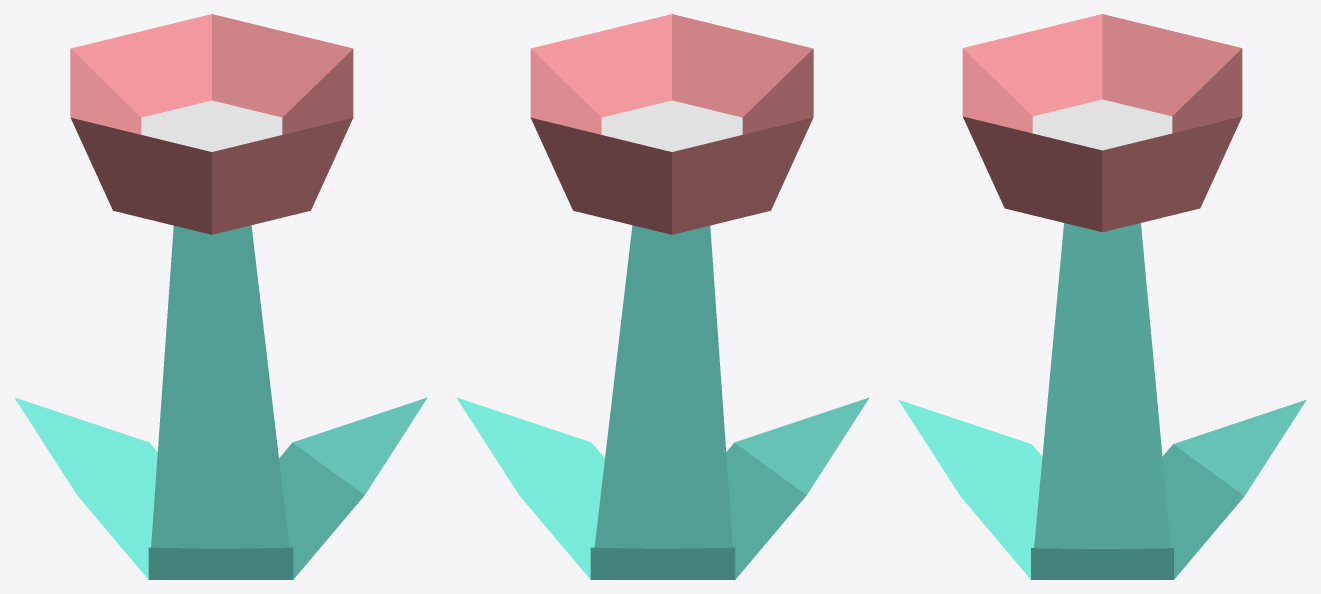
Rendered from flower_redC.gltf.
The picture shows the model from 3 angles, left to right: view 1: azimuth 30°, elevation 25°; view 2: azimuth 150°, elevation 25°; view 3: azimuth 270°, elevation 25°; orthographic projection.
Parts seen in each view (by area): view 1: flower_redC; view 2: flower_redC; view 3: flower_redC.
Part boxes in pixels (box(x1,y1,x2,y2)): flower_redC: box(14, 14, 427, 579); flower_redC: box(456, 14, 869, 579); flower_redC: box(898, 14, 1306, 579).
Bounding box in the file's own units: 0.1806 × 0.2325 × 0.1811.
